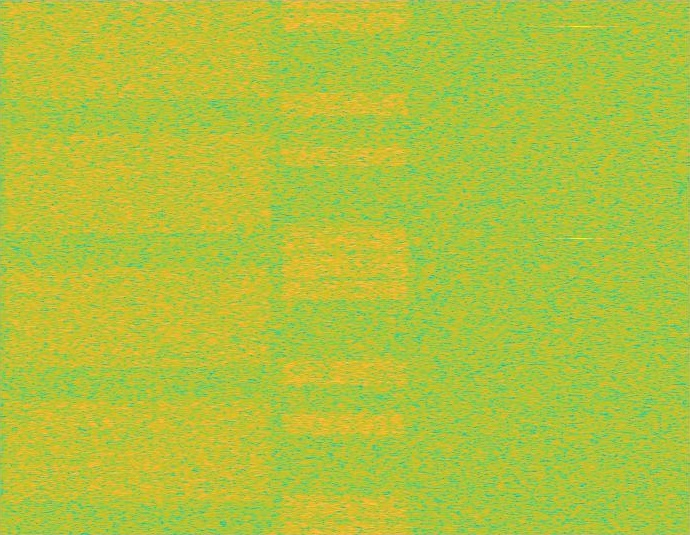5G: (0, 0, 276, 534)
LTE: (276, 0, 414, 534)
Radar: (573, 0, 587, 534)
